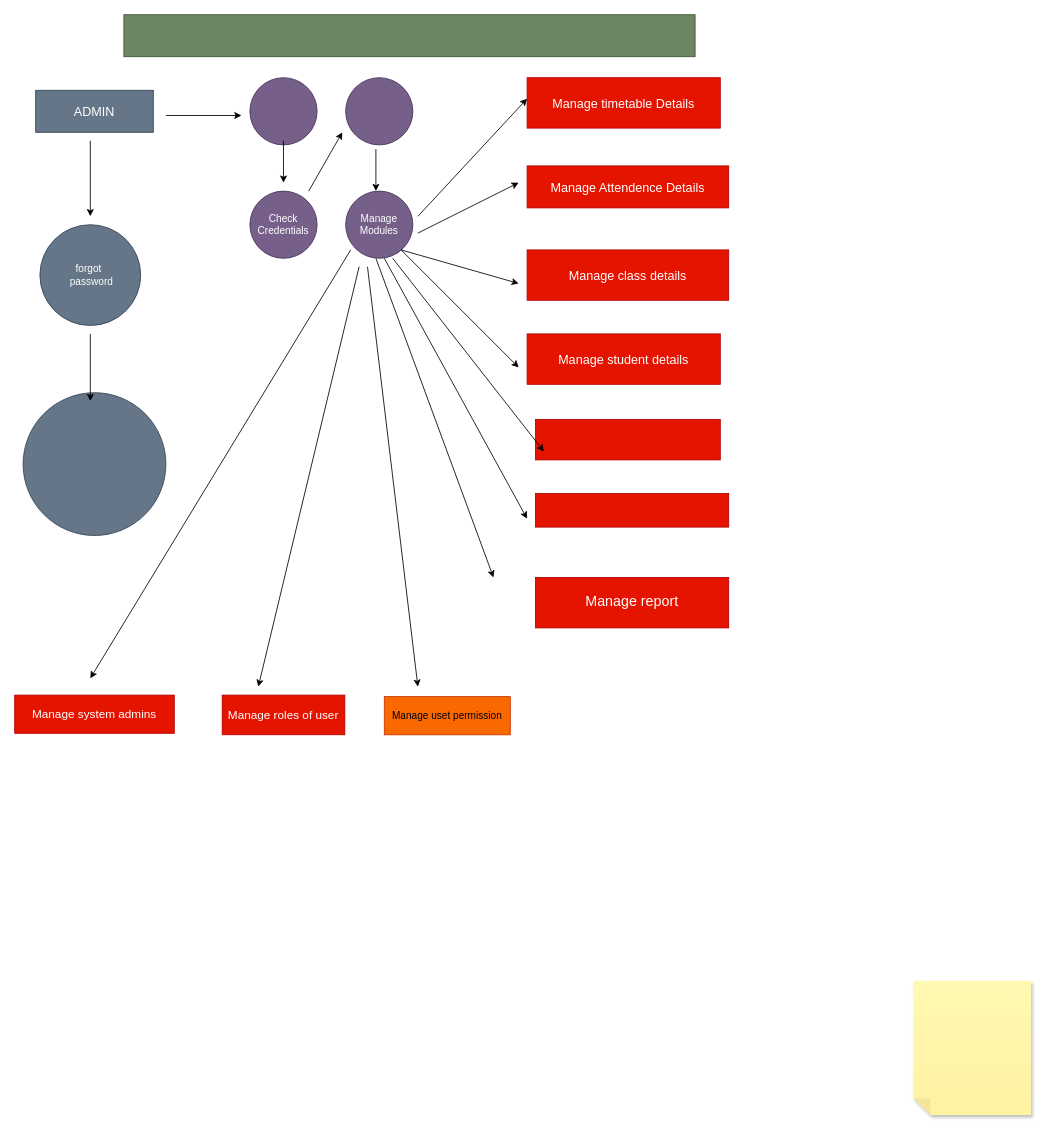
Some shapes in this 1051 by 1136 pixel diagram are drawn without their labels. Each missing label, with the centre of its shape:
"Check roles of access" belongs at (x=379, y=111).
"Login to System" belongs at (x=283, y=111).
"Manage fees details" belongs at (x=627, y=439).
"Manage teacher profiles" belongs at (x=632, y=510).
"Send Email to user" belongs at (x=94, y=464).
"STUDENT INFORMATION SYSTEM" belongs at (x=409, y=35).
